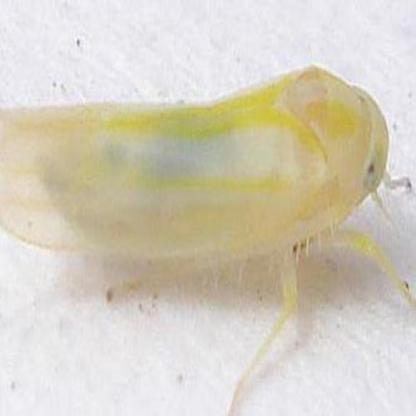green-leafhopper: (3, 68, 386, 268)
